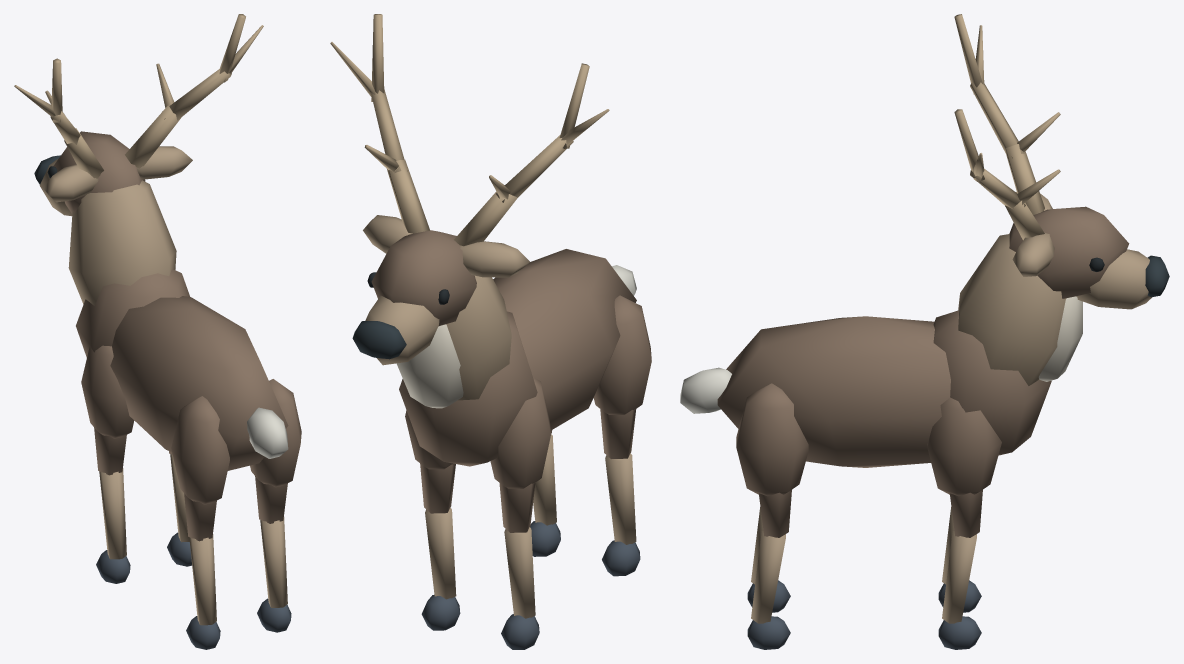
Rendered from reindeer-low.glb.
3 renders of one model, left to right at view 1: azimuth 30°, elevation 25°; view 2: azimuth 150°, elevation 25°; view 3: azimuth 270°, elevation 25°, orthographic. The views are drawn at different scales.
Parts seen in each view (by area): view 1: reindeer-low; view 2: reindeer-low; view 3: reindeer-low.
Part boxes in pixels (box(x1,y1,x2,y2)): reindeer-low: box(14, 14, 301, 649); reindeer-low: box(330, 14, 651, 649); reindeer-low: box(680, 14, 1169, 649).
Bounding box in the file's own units: 1.17 × 2.4 × 1.87.
